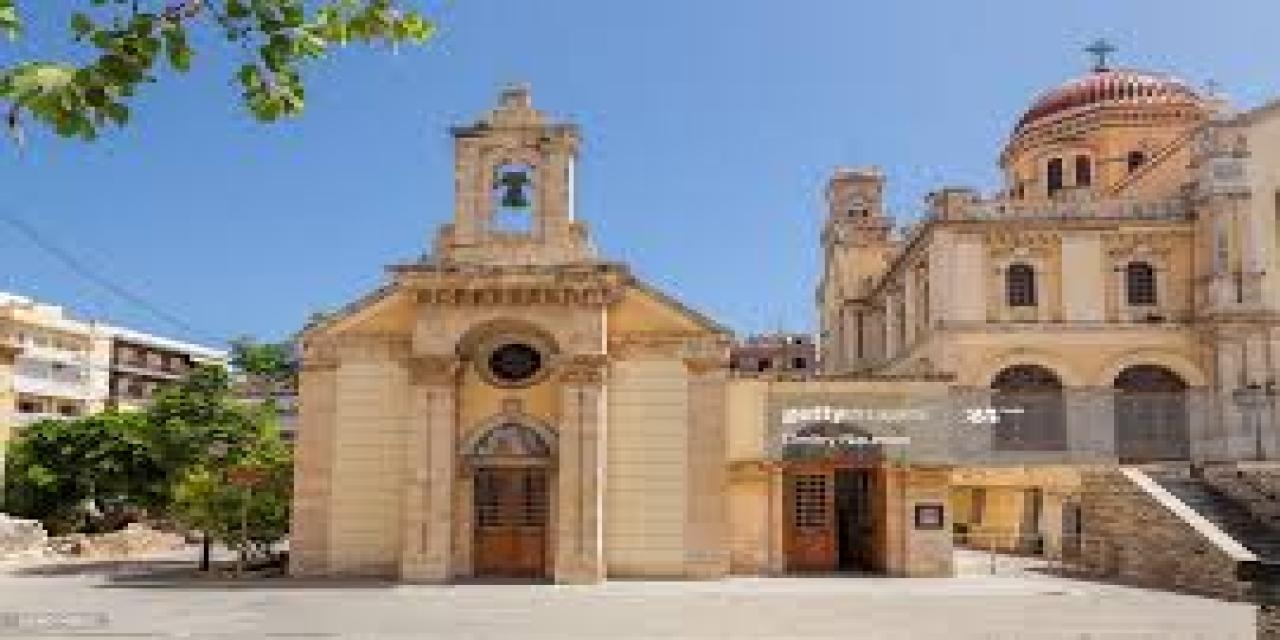Agios Minas: (293, 46, 1280, 596)
